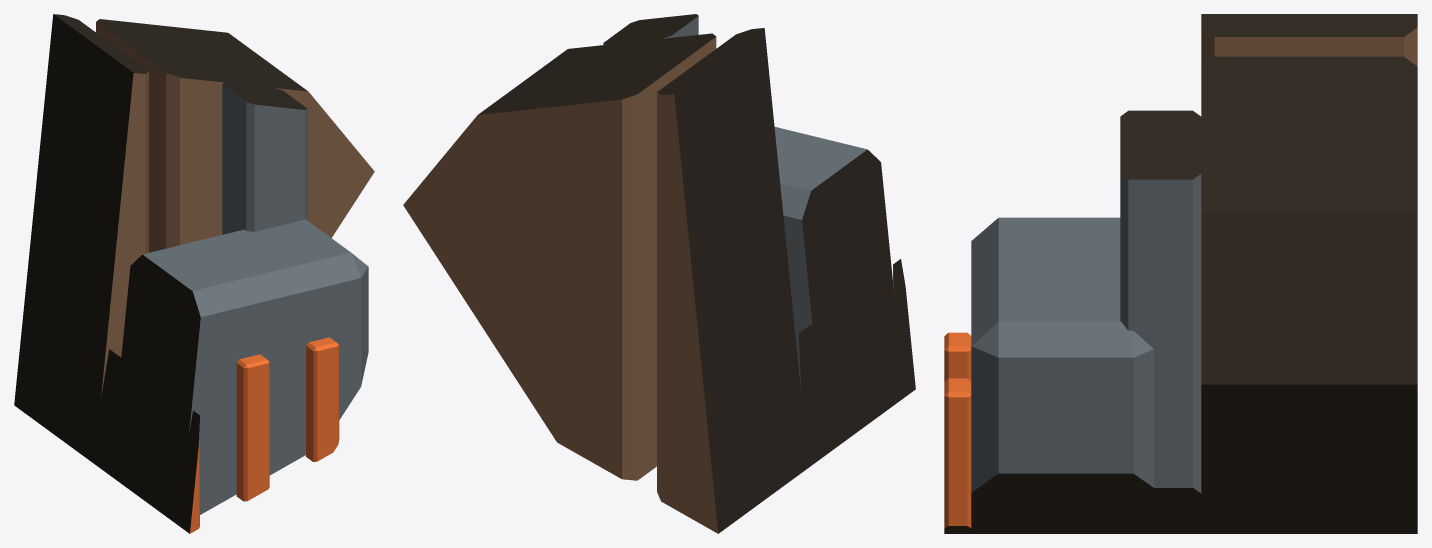
The model's file is SM_DoorShard_02_06.fbx.
The picture shows the model from 3 angles, left to right: view 1: azimuth 30°, elevation 25°; view 2: azimuth 150°, elevation 25°; view 3: azimuth 270°, elevation 25°; orthographic projection. The views are drawn at different scales.
Visible parts, largest first — view 1: SM_DoorShard_02_06; view 2: SM_DoorShard_02_06; view 3: SM_DoorShard_02_06.
Part boxes in pixels (x1,y1,x2,y2): SM_DoorShard_02_06: (14,14,374,533); SM_DoorShard_02_06: (403,14,915,533); SM_DoorShard_02_06: (944,14,1417,533).
Size of the model in its own units: 32.23 by 35 by 41.95.
